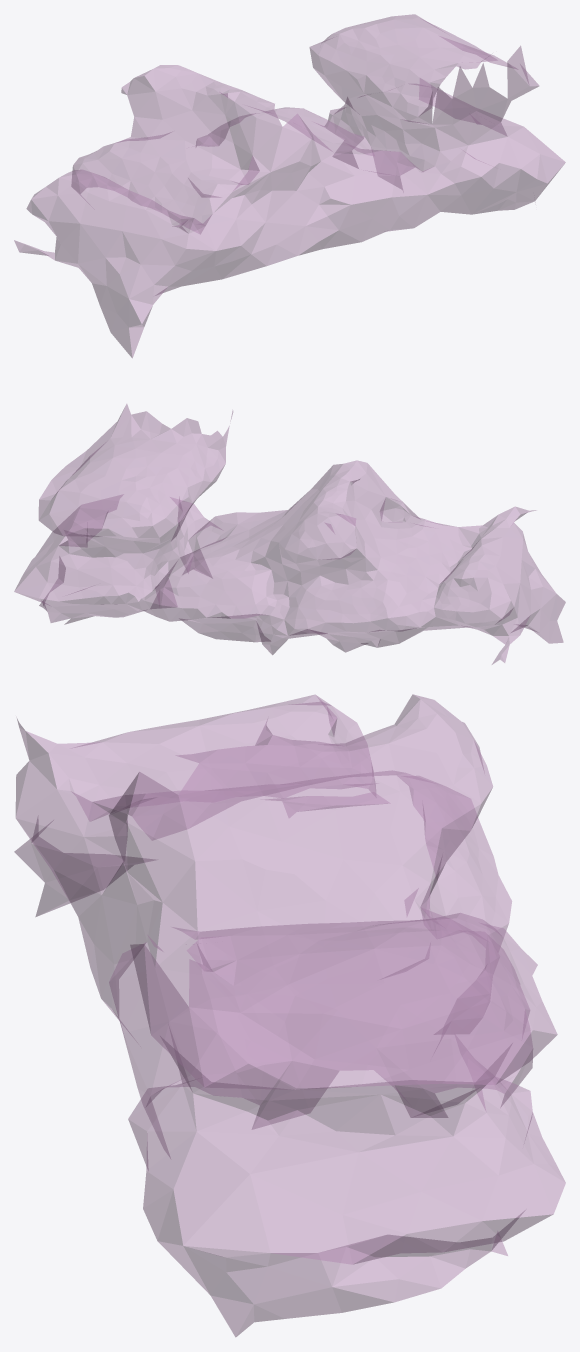
The model's file is styrofoam_dim.glb.
3 renders of one model, top to bottom at view 1: azimuth 30°, elevation 25°; view 2: azimuth 150°, elevation 25°; view 3: azimuth 270°, elevation 25°, orthographic. The views are drawn at different scales.
Visible parts, largest first — view 1: Styrofoam; view 2: Styrofoam; view 3: Styrofoam.
Part boxes in pixels (left/top/right/bottom): Styrofoam: left=14, top=14, right=565, bottom=358; Styrofoam: left=14, top=404, right=565, bottom=664; Styrofoam: left=14, top=694, right=565, bottom=1337.
Bounding box in the file's own units: 0.3148 × 0.1181 × 0.1647.
